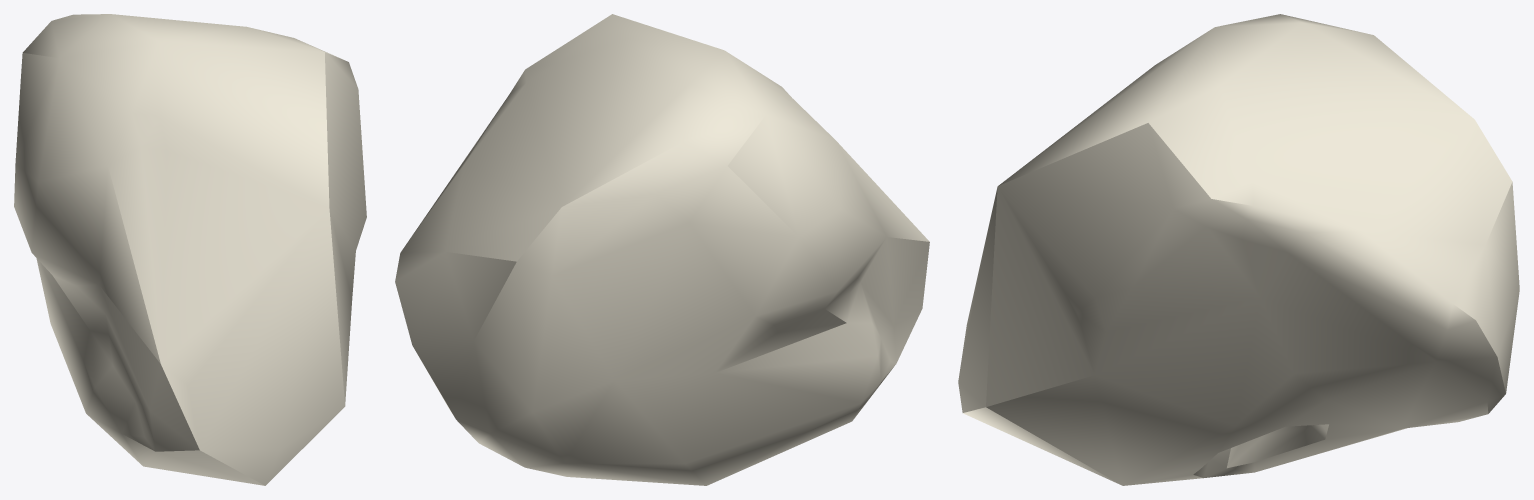
The model's file is fma24440_fj6395.glb.
The picture shows the model from 3 angles, left to right: view 1: azimuth 30°, elevation 25°; view 2: azimuth 150°, elevation 25°; view 3: azimuth 270°, elevation 25°; orthographic projection. The views are drawn at different scales.
Visible parts, largest first — view 1: FMA24440_FJ6395; view 2: FMA24440_FJ6395; view 3: FMA24440_FJ6395.
Part boxes in pixels (x1=…): FMA24440_FJ6395: x1=14, y1=14, x2=366, y2=485; FMA24440_FJ6395: x1=395, y1=14, x2=929, y2=485; FMA24440_FJ6395: x1=958, y1=14, x2=1519, y2=485.
Bounding box in the file's own units: 0.0109 × 0.0133 × 0.0153.
